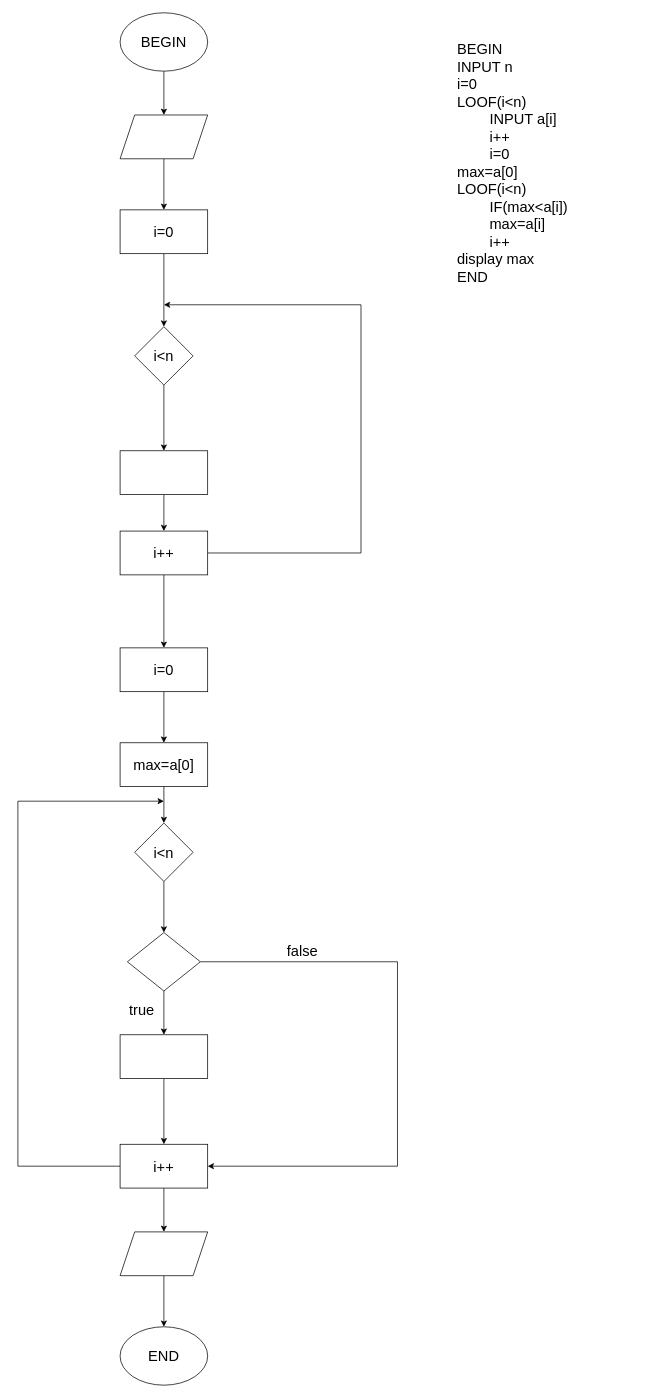
Image size: 666x1398. Some labels were removed from this diagram. Here are the shapes that lost their labels. From the top down, the centre of each, then its label:
At (163,136): "INPUT n".
At (163,472): "INPUT a[i]".
At (163,961): "max<a[i]".
At (163,1056): "max=a[i]".
At (163,1253): "DISPLAY max".
